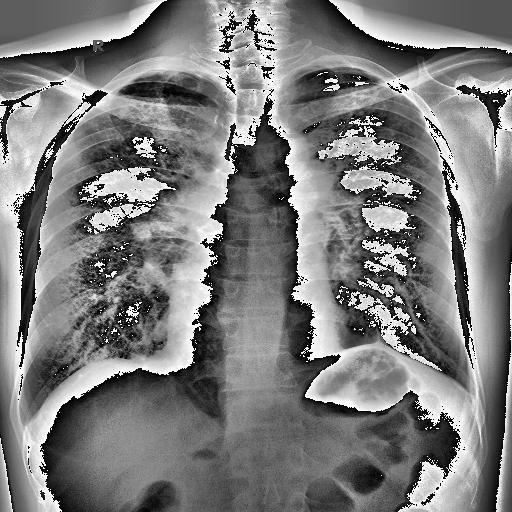10- Pleural effusion: (12, 398, 40, 436), (456, 375, 478, 405)
11- Pleural thickening: (12, 398, 40, 436), (456, 375, 478, 405), (366, 320, 388, 347)
13- Pulmonary fibrosis: (70, 77, 210, 161)
5- ILD: (25, 68, 217, 410), (292, 71, 482, 401), (22, 70, 222, 378), (283, 68, 466, 374), (47, 266, 152, 326)
6- Infiltration: (70, 77, 210, 161), (352, 94, 432, 146)
9- Other lesion: (370, 322, 391, 348)
